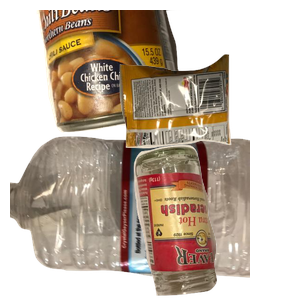glass: (131, 142, 300, 300)
metal: (34, 10, 213, 135)
plastic: (10, 134, 250, 300)
trash: (117, 52, 300, 193)
